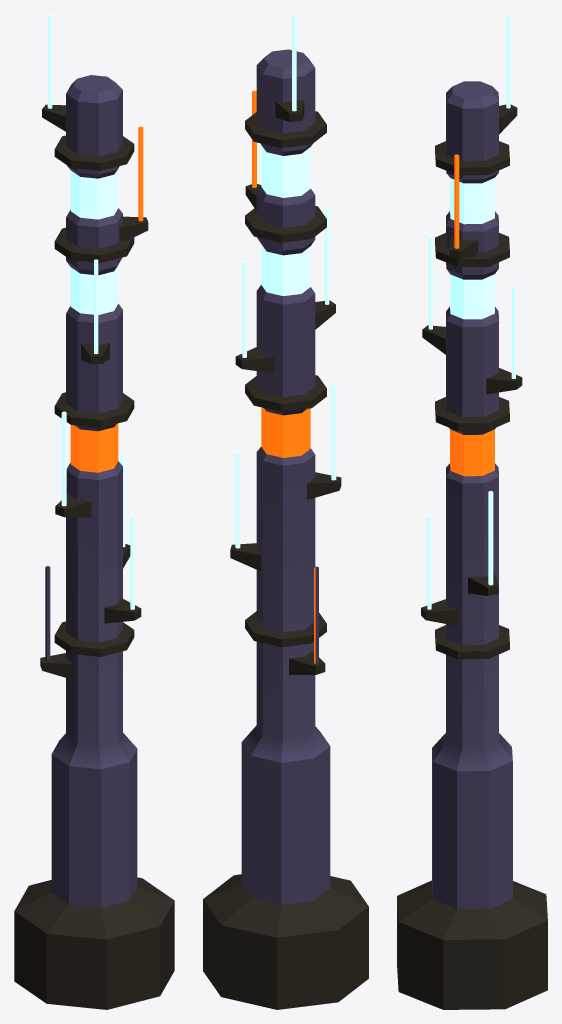
Rendered from Antena_01.fbx.
3 views of the same model, side by side, from view 1: azimuth 30°, elevation 25°; view 2: azimuth 150°, elevation 25°; view 3: azimuth 270°, elevation 25° (orthographic). The views are drawn at different scales.
Parts seen in each view (by area): view 1: Antena_01; view 2: Antena_01; view 3: Antena_01.
Boxes of the visible parts, x1,y1,x2,y2 form: Antena_01: (14, 14, 174, 1009); Antena_01: (203, 14, 368, 1009); Antena_01: (397, 14, 547, 1009).
Size of the model in its own units: 938 by 6515 by 938.
